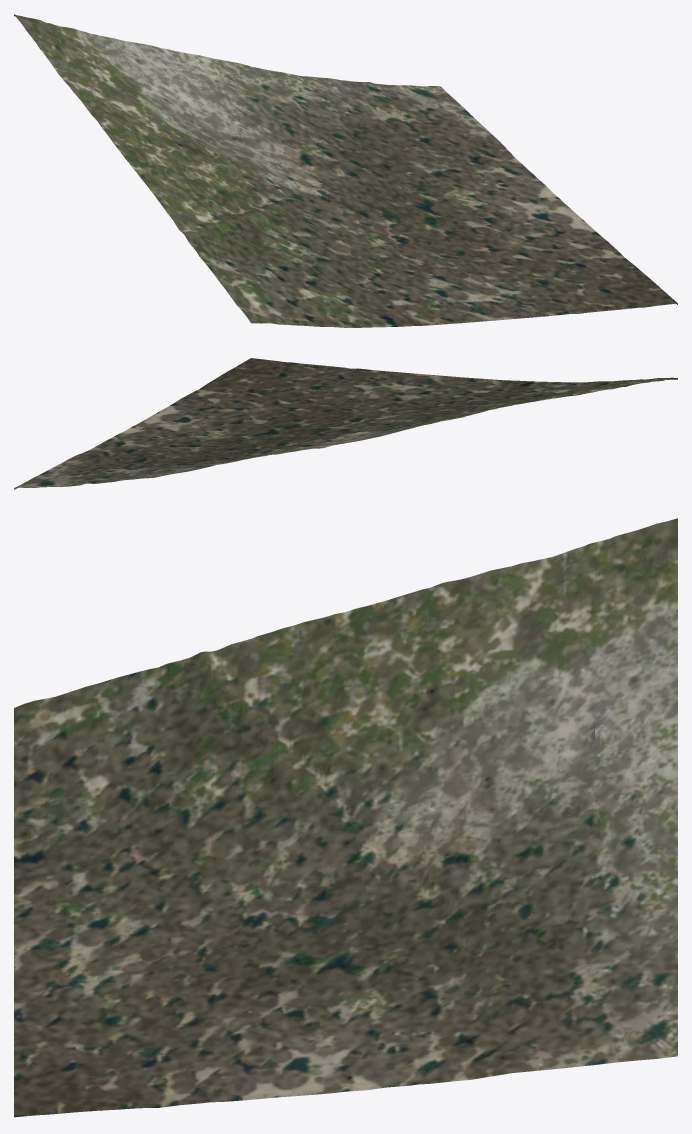
3 views of the same model, one above another, from view 1: azimuth 30°, elevation 25°; view 2: azimuth 150°, elevation 25°; view 3: azimuth 270°, elevation 25° (orthographic). The views are drawn at different scales.
Size of the model in its own units: 250 by 124 by 241.
1 material, 1 textured.
